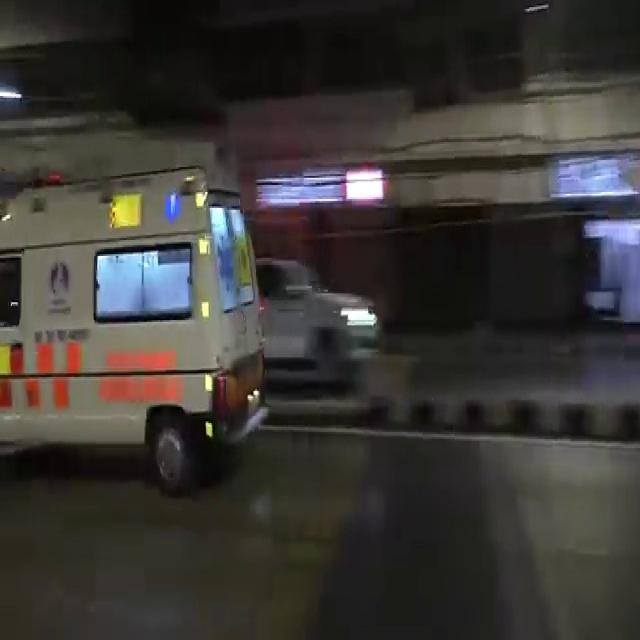ambulance: (0, 200, 272, 481)
